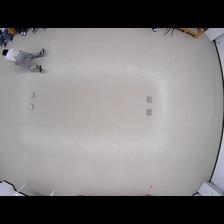fall: (2, 45, 47, 73)
